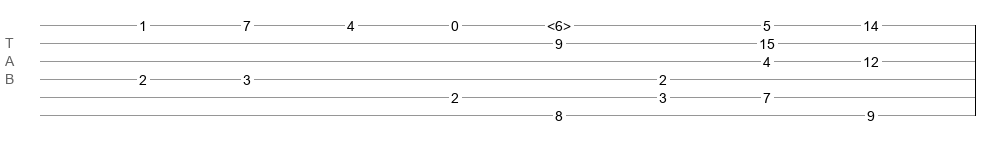0: (451, 18, 459, 28)
1: (139, 18, 147, 28)
12: (863, 54, 879, 64)
14: (863, 18, 879, 28)
15: (759, 36, 775, 46)
2: (139, 72, 147, 82), (451, 90, 459, 100), (659, 72, 667, 82)
3: (243, 72, 251, 82), (659, 90, 667, 100)
4: (347, 18, 355, 28), (763, 54, 771, 64)
5: (763, 18, 771, 28)
7: (243, 18, 251, 28), (763, 90, 771, 100)
8: (555, 108, 563, 118)
9: (555, 36, 563, 46), (867, 108, 875, 118)
harmonic: (547, 18, 571, 28)
